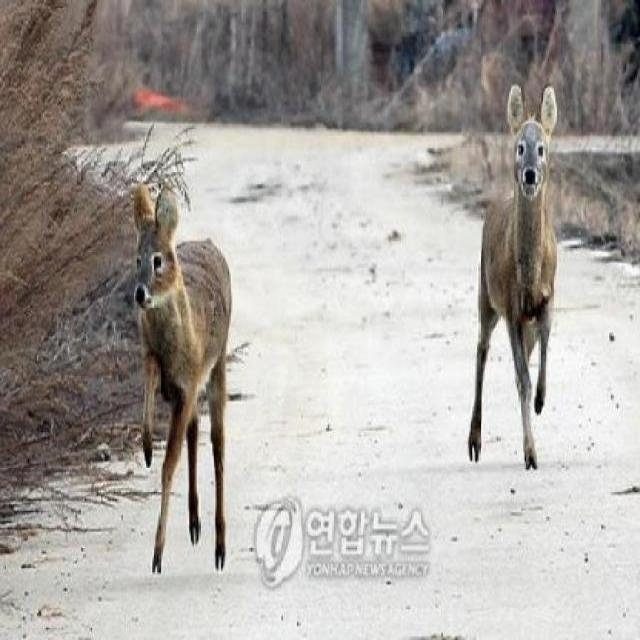deer: (102, 165, 233, 604), (458, 73, 582, 510)
